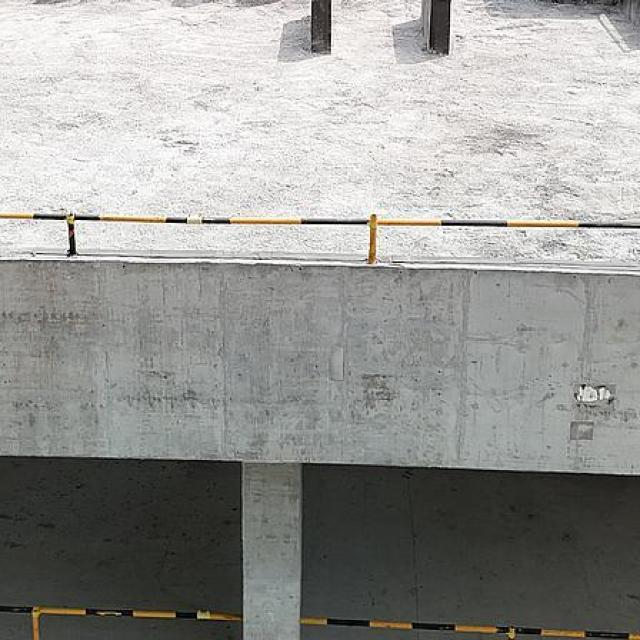edge_guardrail: (0, 210, 640, 266), (0, 603, 243, 640), (298, 614, 640, 639)
